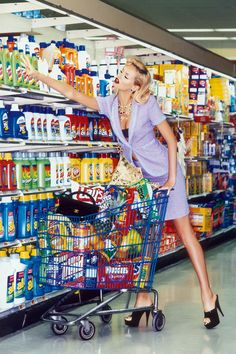Emotion_Neutral: (106, 57, 154, 104)
